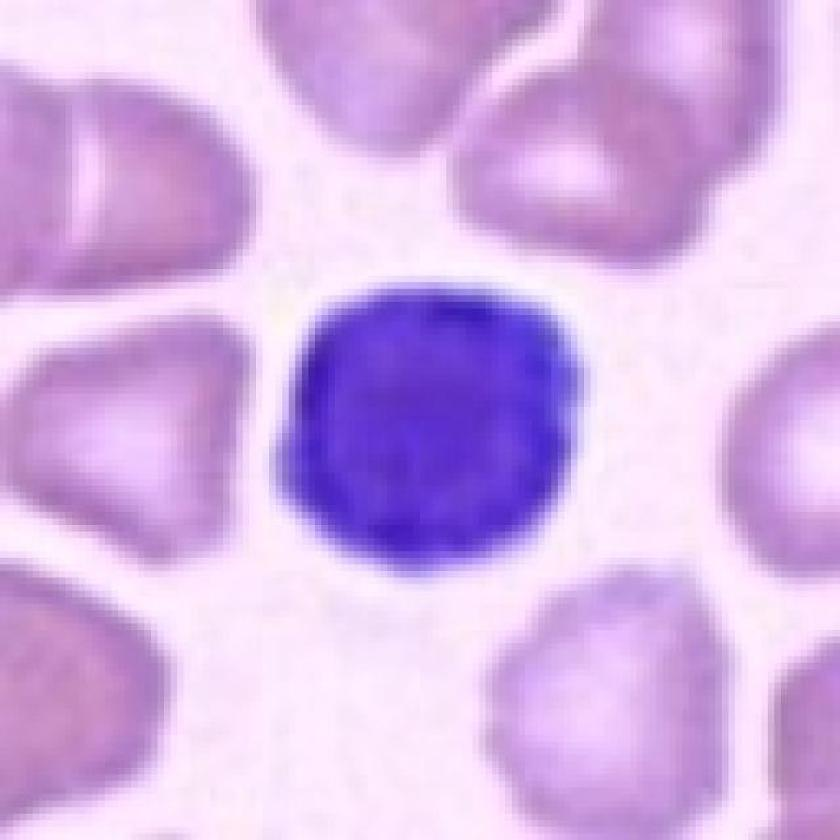lymphocyte: (268, 280, 599, 579)
